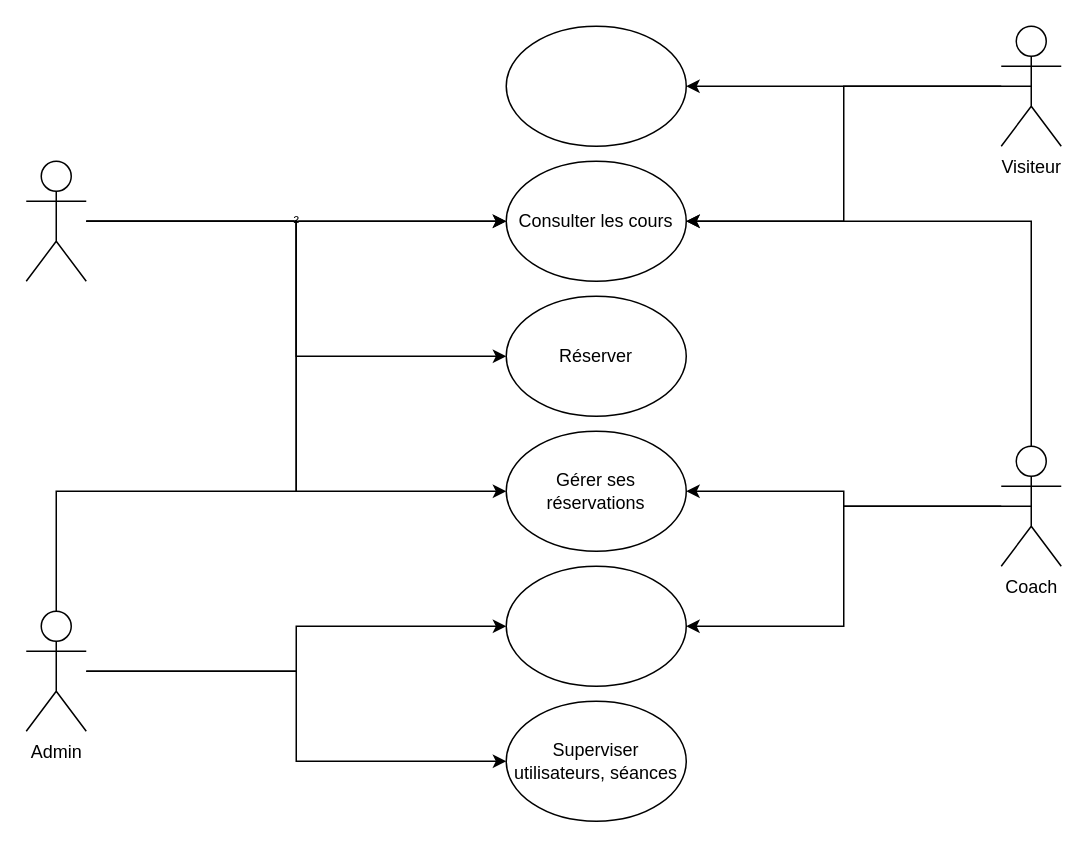
Image size: 1088x848. Some labels were removed from this diagram. Each missing label, with the centre of its shape:
"Client" goes at point 55,220.
"Créer, modifier les cours" goes at point 595,625.
"S'authentifier" goes at point 595,85.
